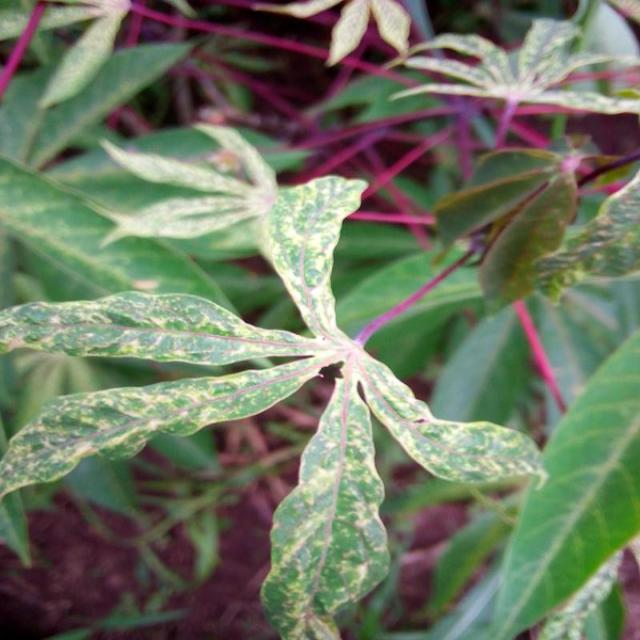cassava leaf: (2, 167, 550, 637), (490, 325, 640, 638), (260, 364, 392, 638)
